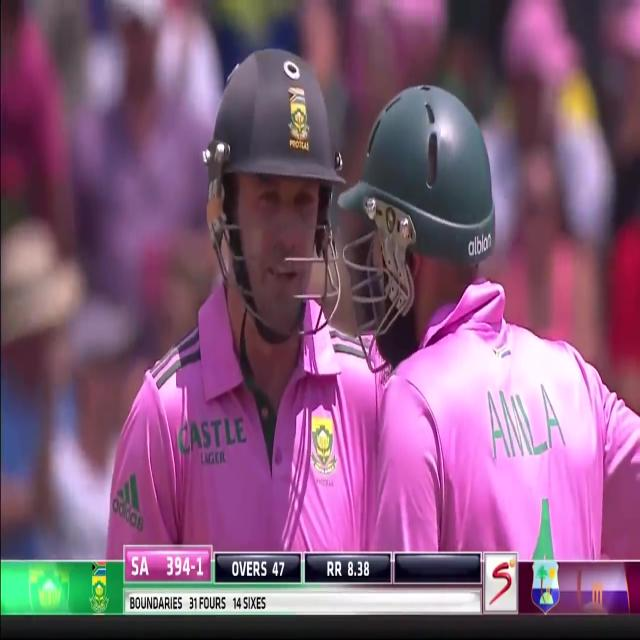Ball: (329, 90, 639, 557), (103, 37, 345, 555)
